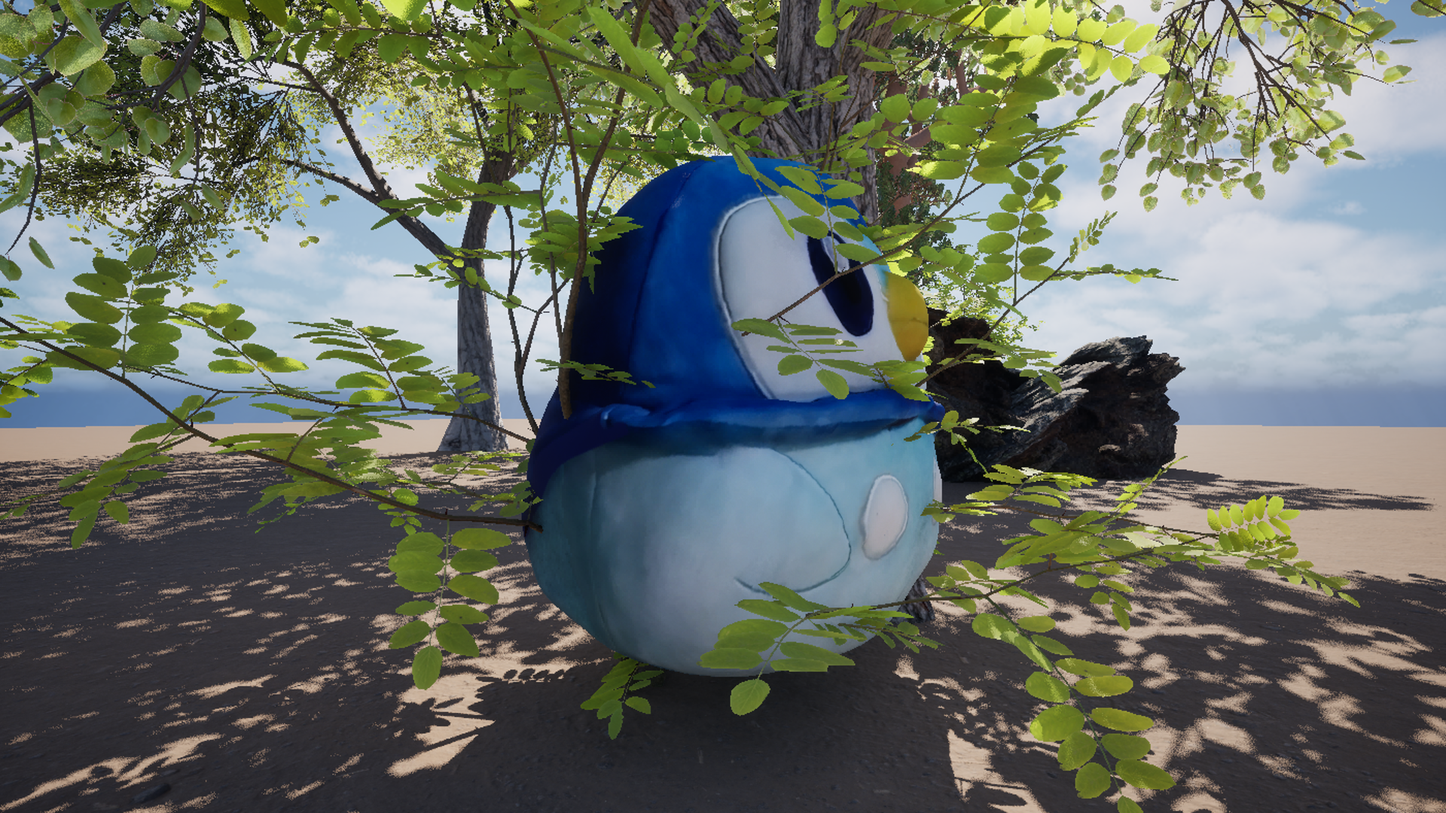Piplup: (291, 0, 1007, 813)
